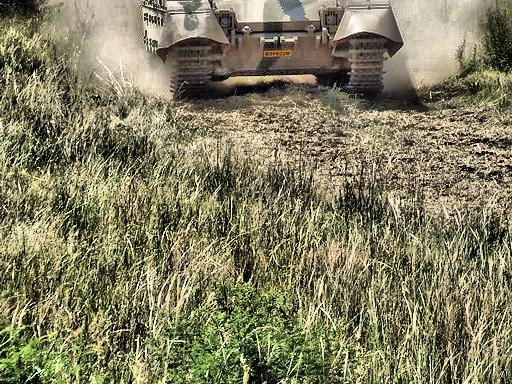tanks: (145, 1, 403, 96)
